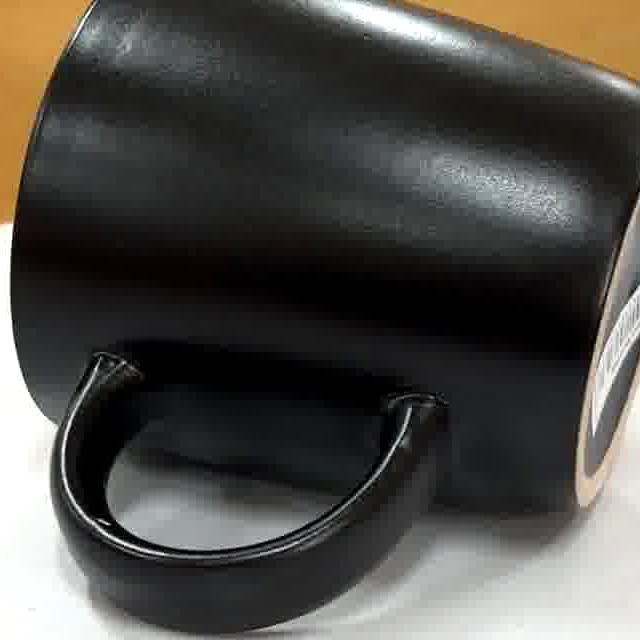cup: (11, 0, 640, 635)
